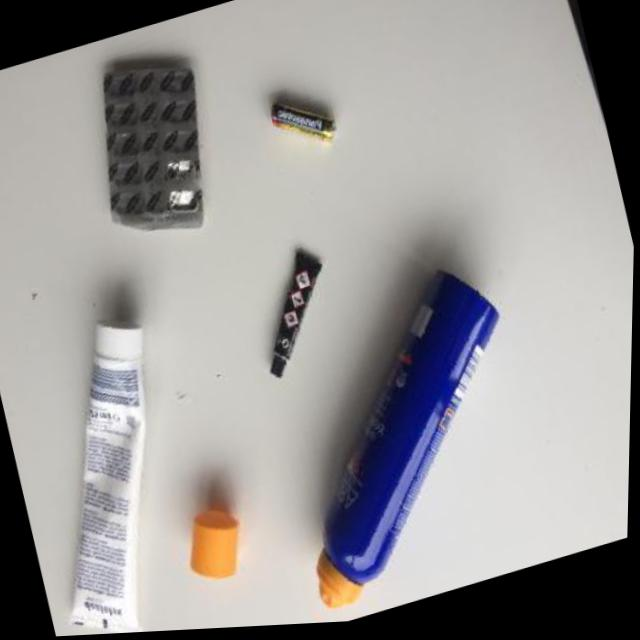metal: (248, 249, 560, 619), (0, 302, 215, 639), (243, 241, 348, 383)
other: (266, 85, 341, 158)
plastic: (75, 44, 232, 254), (175, 499, 252, 589)
